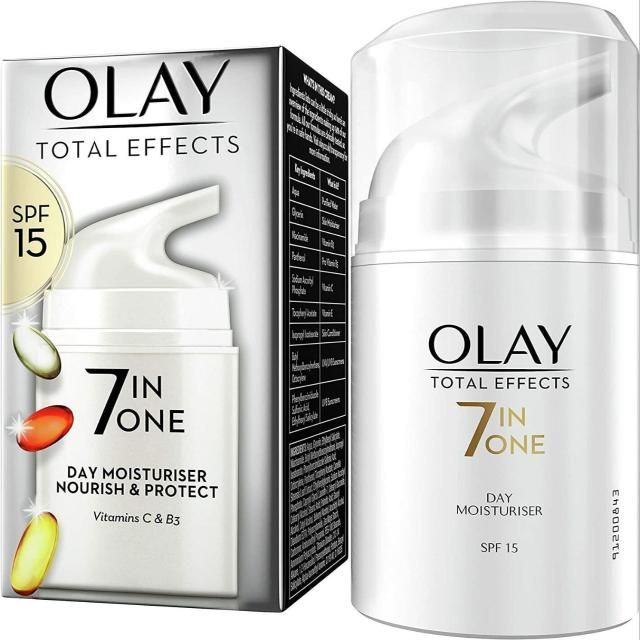lotion-moisture: (2, 53, 297, 605), (360, 62, 630, 620)
